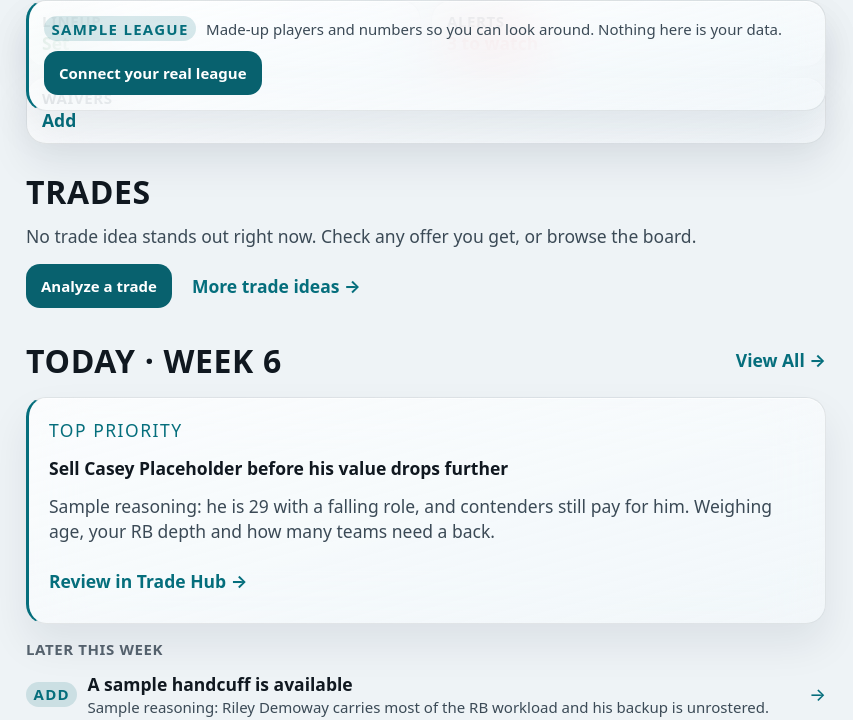
Test: SampleLeagueContent › blocks Dashboard links in the sample and explains why
(page scrolled)
Click the link with aria-label "View all game plan items": (781, 360) [736,348,826,372]
(page scrolled)
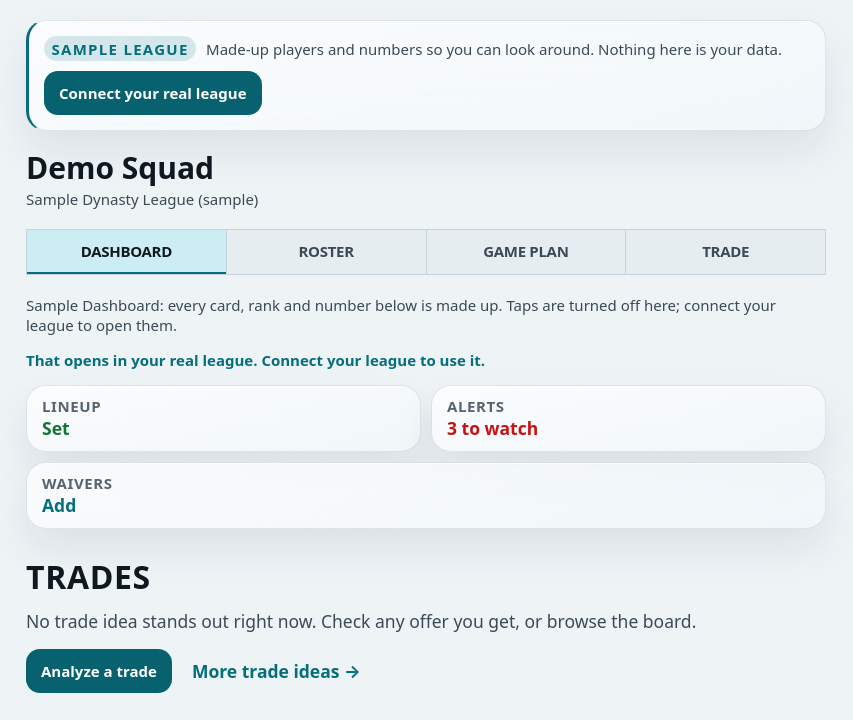
Check: the message with test id "sample-blocked" shows "Connect your league", box [26,350,485,370]
